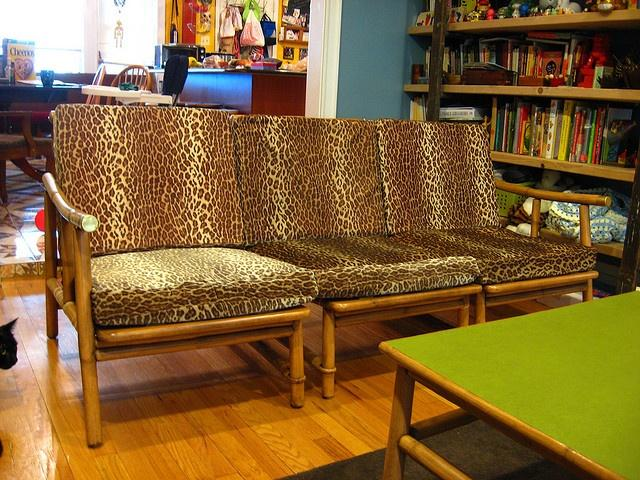Meja: (377, 284, 639, 479)
Rak: (400, 0, 639, 182)
